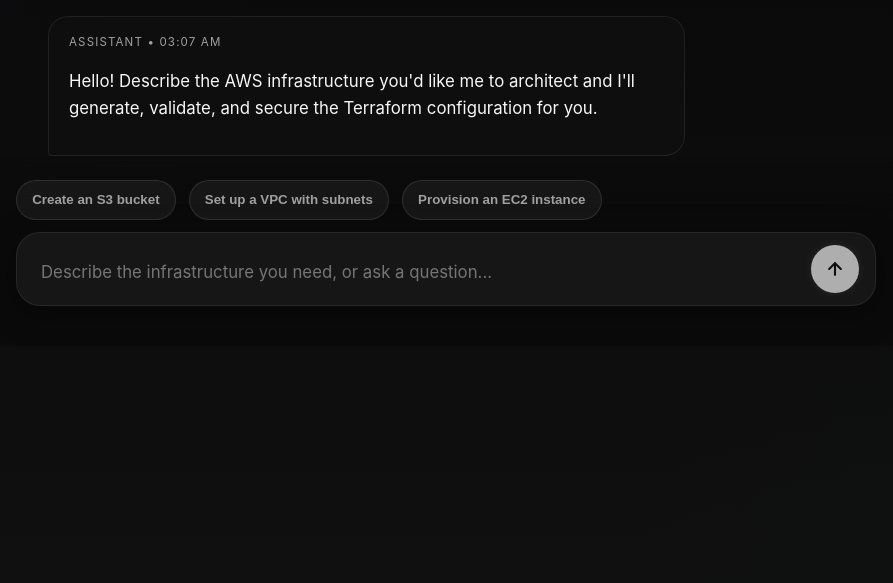
Scenario: Chat Interface › allows typing and sending a message
Check: the button named "Send message" is disabled, box [811,245,859,293]
// Type a message
Type "Create an S3 bucket" into the text box with placeholder "Describe the infrastructure you need, or ask a question...".
click(414, 272); type("Create an S3 bucket")  # box [33,252,795,293]
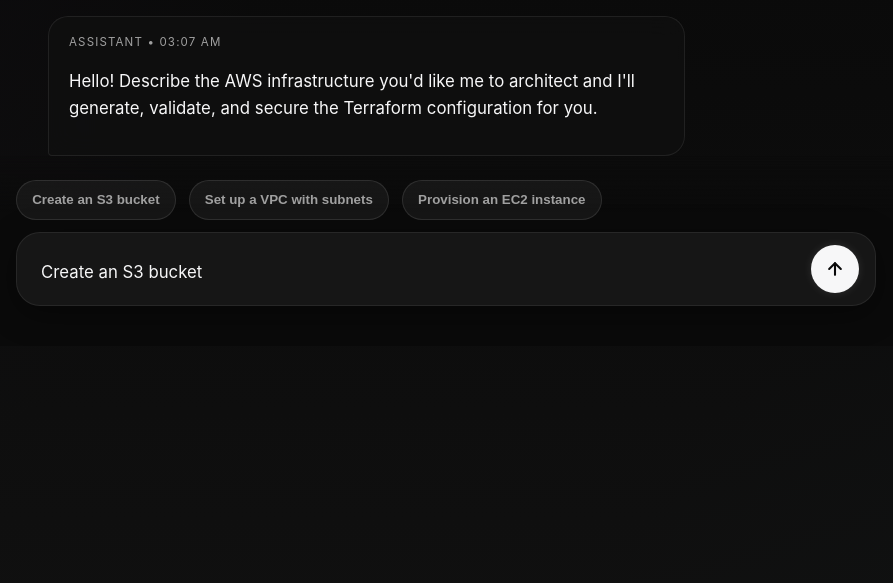
Check: the button named "Send message" is enabled
// Send message
Click the button named "Send message".
click(835, 269)  # box [811,245,859,293]
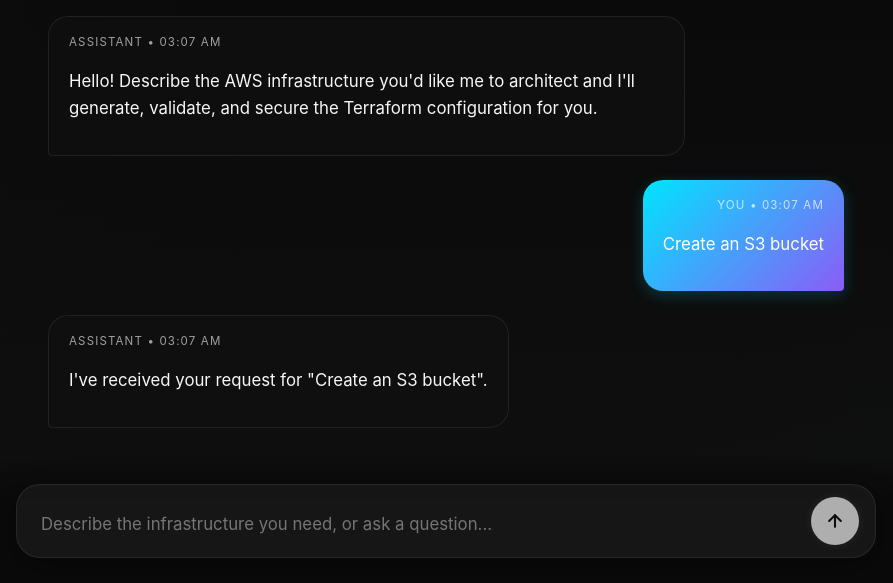
Check: the text "Create an S3 bucket" is shown, box [663,231,824,258]
Check: the text "I've received your request for \"Create an S3 bucket\"." is shown, box [69,367,488,394]
